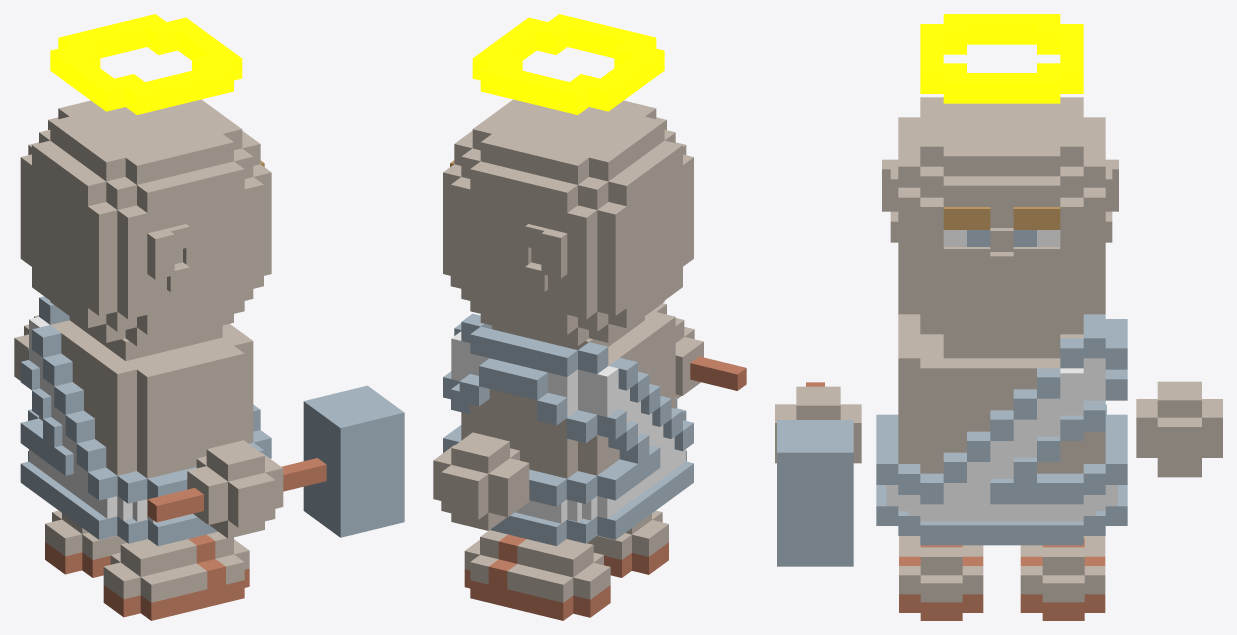
Rendered from Worker Angel.fbx.
3 renders of one model, left to right at view 1: azimuth 30°, elevation 25°; view 2: azimuth 150°, elevation 25°; view 3: azimuth 270°, elevation 25°, orthographic. The views are drawn at different scales.
Visible parts, largest first — view 1: Head, Torso, Cube.001, Cube, FootRight, HandRight, FootLeft, HandLeft; view 2: Head, Torso, Cube, FootLeft, HandLeft, FootRight, HandRight, Cube.001; view 3: Head, Torso, Cube, Cube.001, HandLeft, FootLeft, FootRight, HandRight.
Boxes of the visible parts, x1,y1,x2,y2 form: Head: [20, 99, 271, 346]; Torso: [20, 296, 271, 546]; Cube.001: [147, 385, 404, 537]; Cube: [50, 14, 242, 114]; FootRight: [103, 531, 249, 620]; HandRight: [187, 440, 283, 538]; FootLeft: [45, 510, 126, 577]; HandLeft: [14, 315, 38, 380]; Head: [443, 99, 693, 346]; Torso: [443, 303, 693, 546]; Cube: [472, 14, 664, 114]; FootLeft: [464, 530, 610, 620]; HandLeft: [433, 432, 529, 530]; FootRight: [587, 510, 668, 577]; HandRight: [675, 318, 703, 398]; Cube.001: [690, 356, 746, 390]; Head: [882, 97, 1118, 344]; Torso: [876, 314, 1127, 545]; Cube: [920, 14, 1083, 103]; Cube.001: [777, 382, 853, 566]; HandLeft: [1136, 381, 1222, 477]; FootLeft: [1020, 536, 1105, 620]; FootRight: [899, 536, 983, 620]; HandRight: [775, 386, 861, 463].
Bounding box in the file's own units: 348 × 730 × 549.
